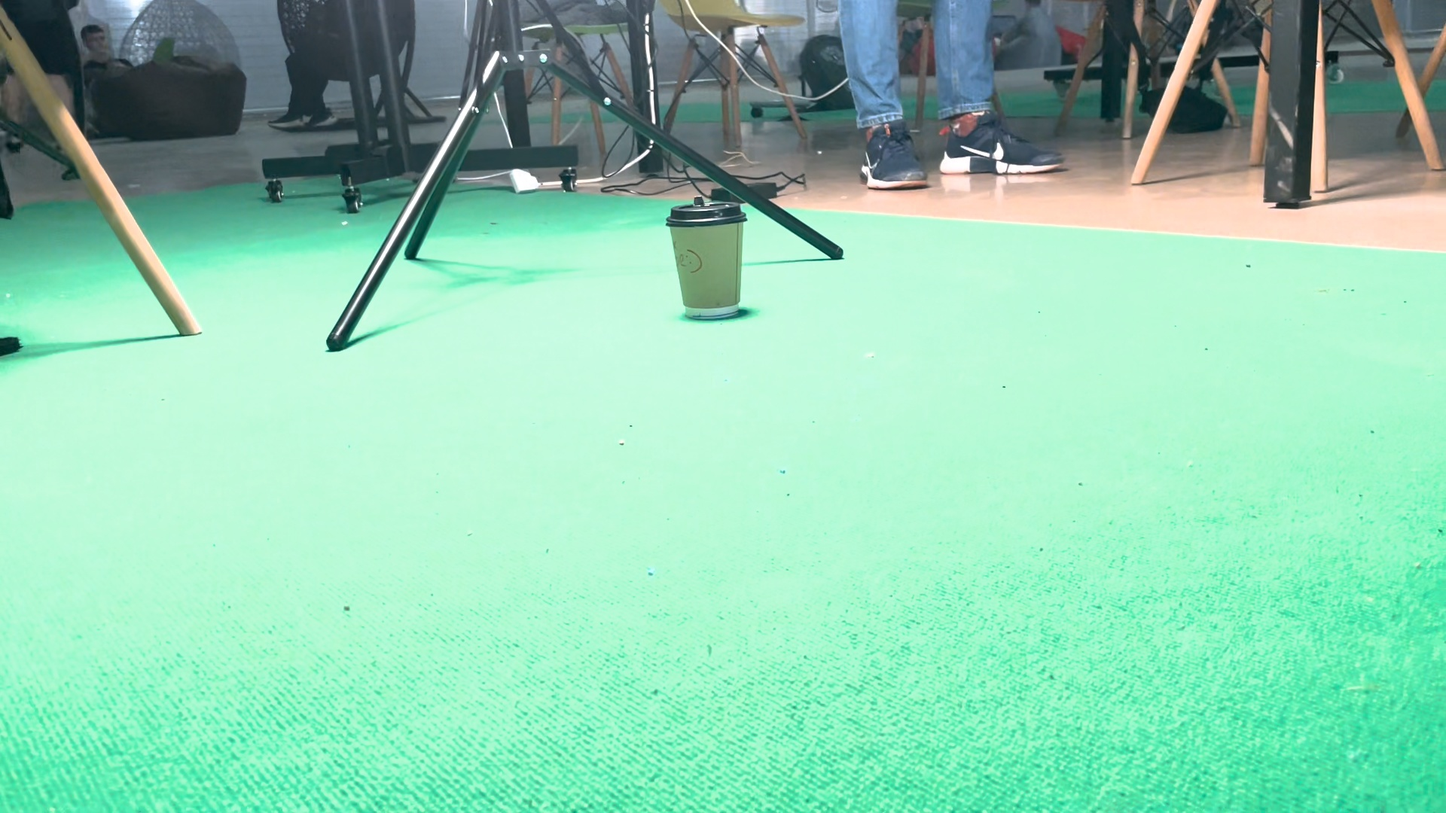cup: (686, 438, 799, 598)
